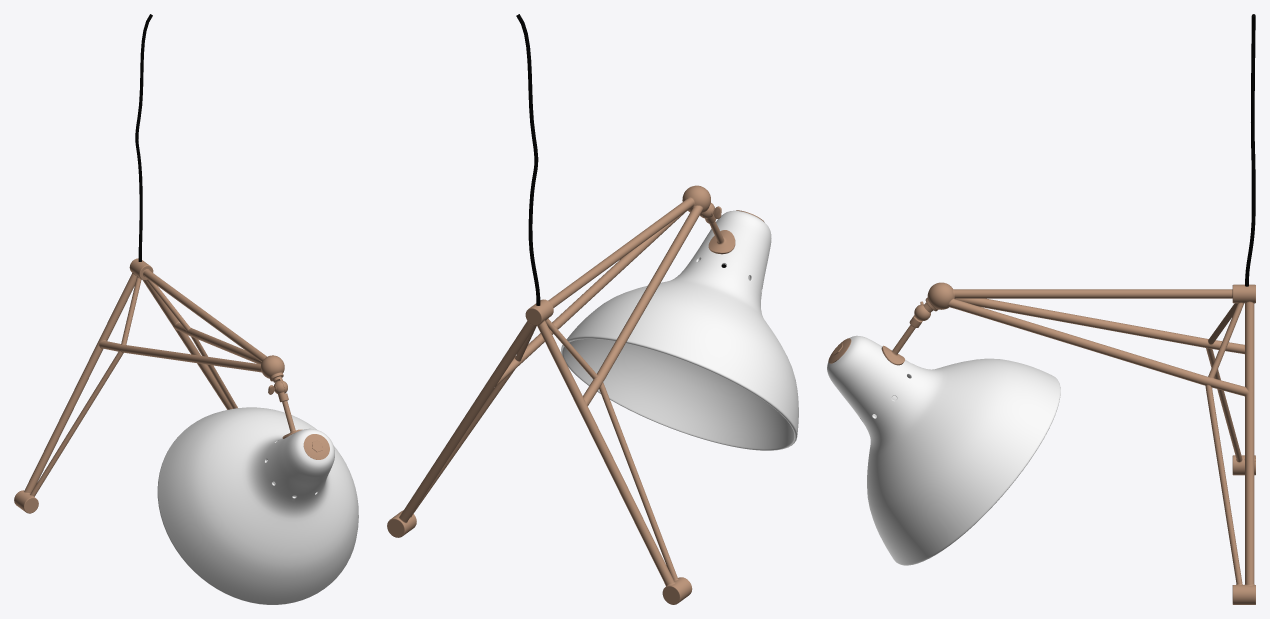
3 renders of one model, left to right at view 1: azimuth 30°, elevation 25°; view 2: azimuth 150°, elevation 25°; view 3: azimuth 270°, elevation 25°, orthographic. The views are drawn at different scales.
Parts seen in each view (by area): view 1: Delightfull_Diana_table_lamp_mat(3); view 2: Delightfull_Diana_table_lamp_mat(3); view 3: Delightfull_Diana_table_lamp_mat(3).
Boxes of the visible parts, left/top/right/bottom form: Delightfull_Diana_table_lamp_mat(3): left=14, top=14, right=358, bottom=604; Delightfull_Diana_table_lamp_mat(3): left=387, top=14, right=798, bottom=604; Delightfull_Diana_table_lamp_mat(3): left=827, top=14, right=1255, bottom=604.
Bounding box in the file's own units: 34.06 × 62.44 × 44.7.
